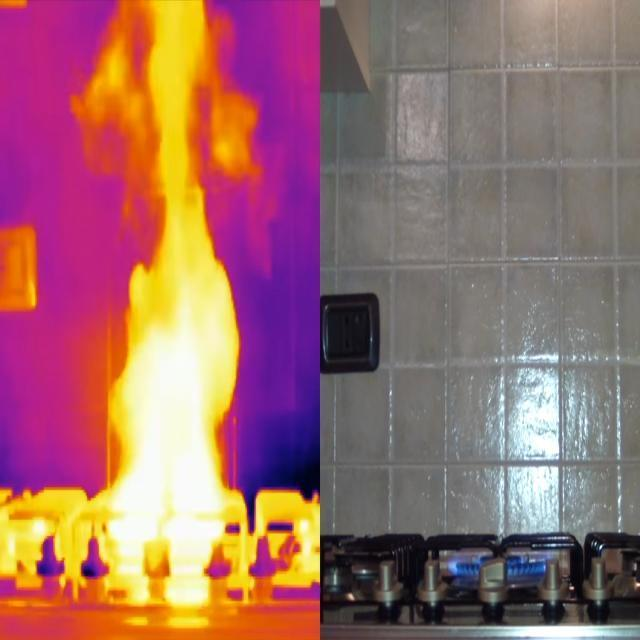fire: (100, 316, 249, 577), (7, 515, 48, 561), (294, 516, 320, 560)
